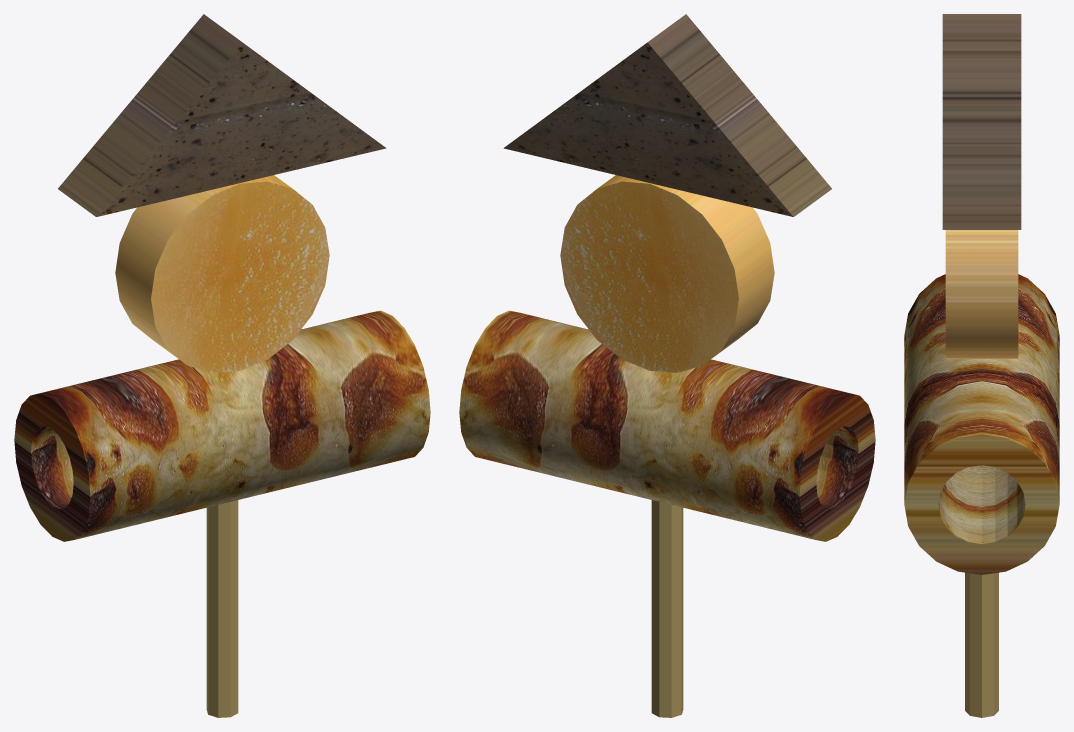
The model's file is Oden.fbx.
3 views of the same model, side by side, from view 1: azimuth 30°, elevation 25°; view 2: azimuth 150°, elevation 25°; view 3: azimuth 270°, elevation 25° (orthographic). The views are drawn at different scales.
Parts seen in each view (by area): view 1: pCylinder6; view 2: pCylinder6; view 3: pCylinder6.
Part boxes in pixels (x1,y1,x2,y2): pCylinder6: [14, 14, 430, 717]; pCylinder6: [459, 14, 875, 717]; pCylinder6: [904, 14, 1059, 717].
Bounding box in the file's own units: 3.81 × 7.3 × 1.47.
Materials: 2 (1 with a texture image).
